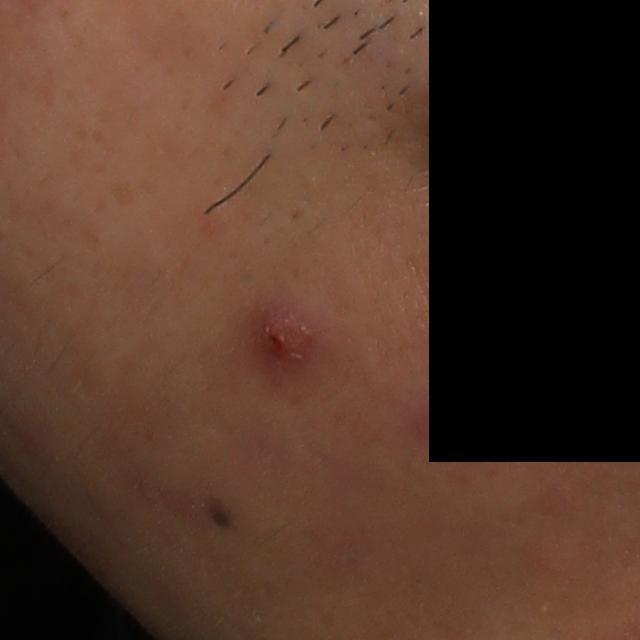nevus: (206, 498, 236, 526)
papule: (249, 305, 322, 375)
